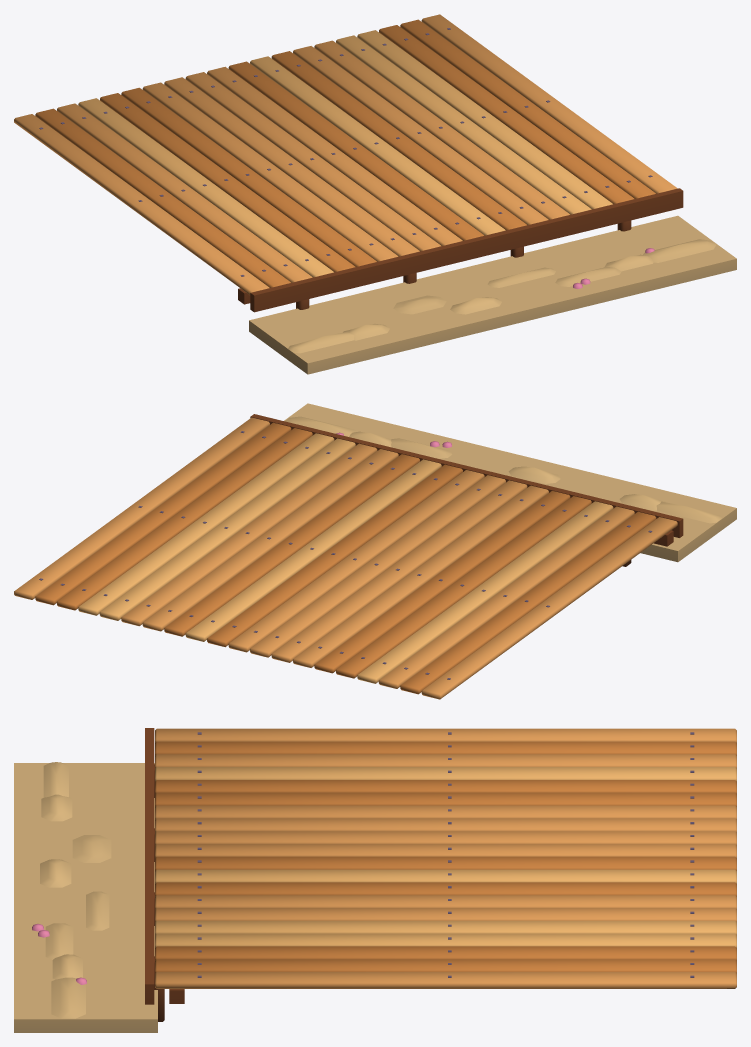
The model's file is boardwalk_tile.glb.
3 renders of one model, top to bottom at view 1: azimuth 30°, elevation 25°; view 2: azimuth 150°, elevation 25°; view 3: azimuth 270°, elevation 25°, orthographic. The views are drawn at different scales.
Parts seen in each view (by area): view 1: boardwalk_tile; view 2: boardwalk_tile; view 3: boardwalk_tile.
Boxes of the visible parts, x1=… form: boardwalk_tile: x1=14, y1=14, x2=736, y2=374; boardwalk_tile: x1=14, y1=403, x2=736, y2=699; boardwalk_tile: x1=14, y1=728, x2=736, y2=1032.
Size of the model in its own units: 8 by 1.01 by 9.54.
